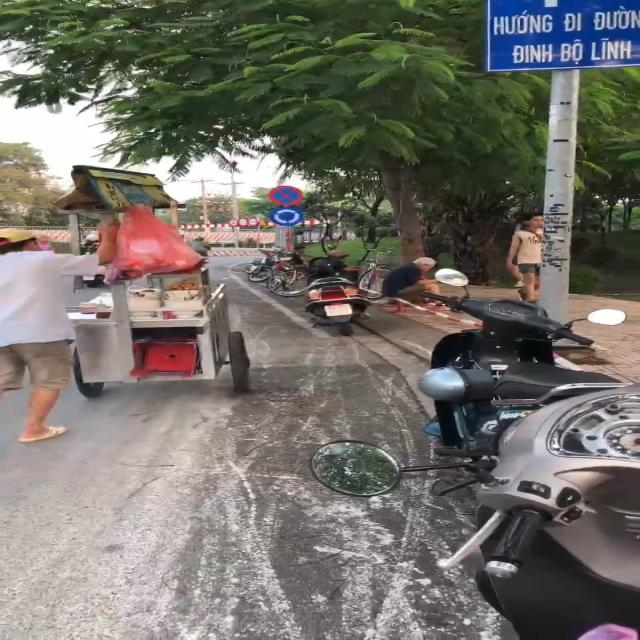Bien bao cam dung xe va do xe: (262, 182, 306, 206)
Bien bao noi giao nhau chay theo vong xuyen: (262, 206, 309, 225)
